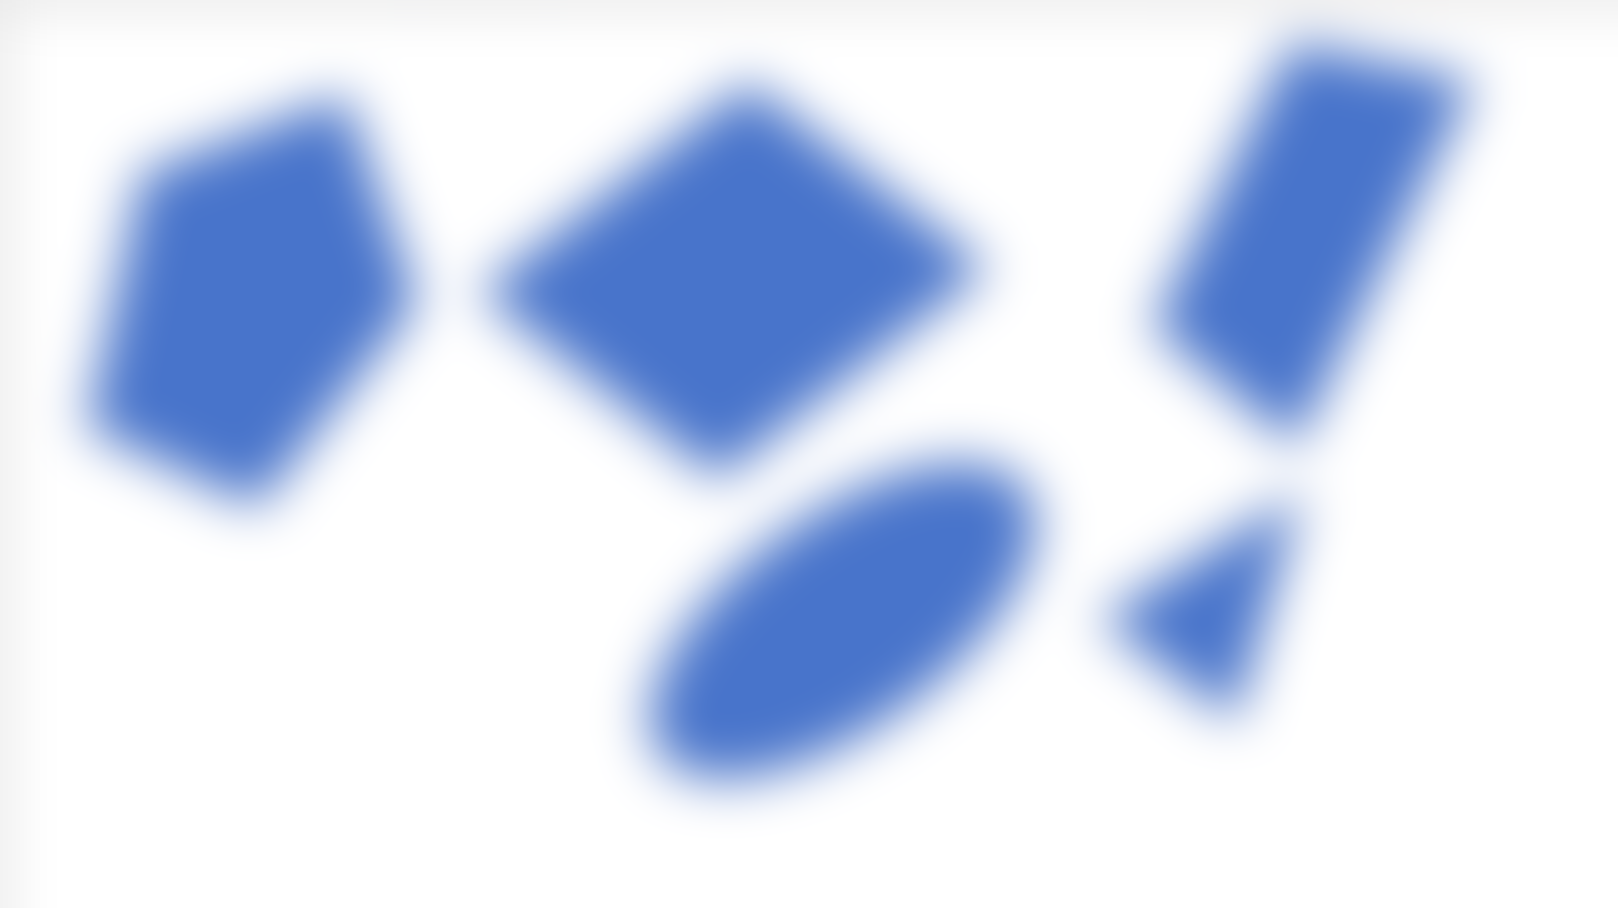circle: (630, 455, 1053, 782)
parallelogram: (477, 79, 993, 470)
pentagon: (84, 89, 445, 510)
trapezium: (1121, 13, 1499, 452)
triangle: (1080, 466, 1354, 730)
